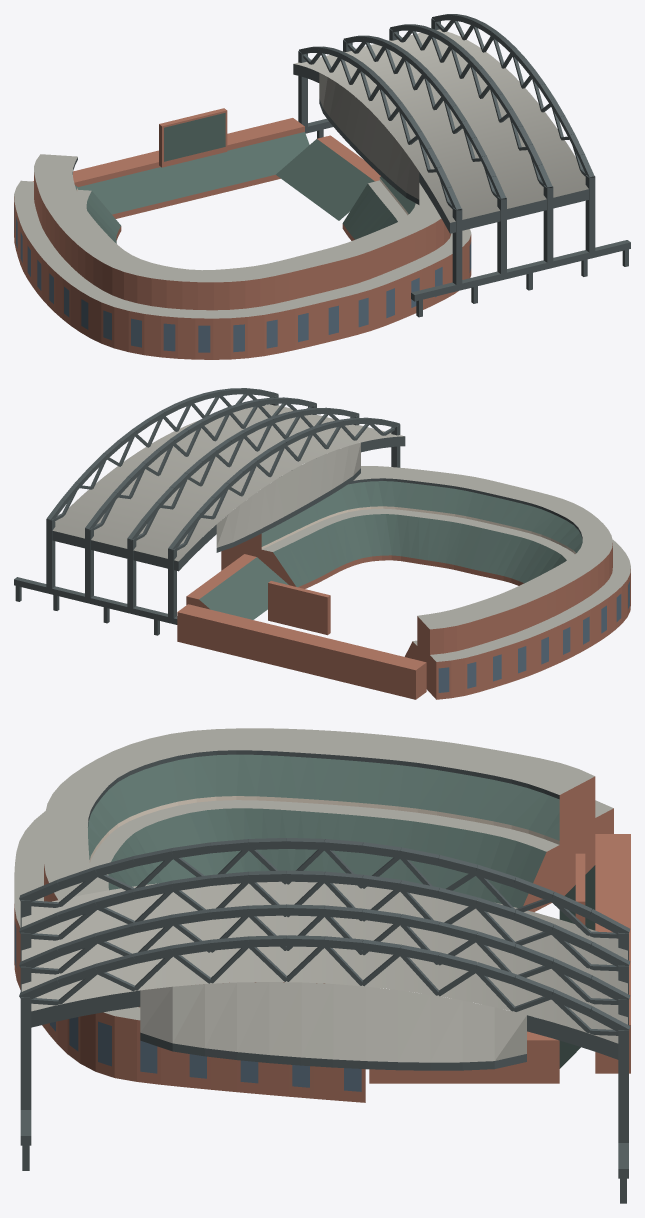
The model's file is sea-t-mobile-park.glb.
3 views of the same model, one above another, from view 1: azimuth 30°, elevation 25°; view 2: azimuth 150°, elevation 25°; view 3: azimuth 270°, elevation 25° (orthographic). The views are drawn at different scales.
Visible parts, largest first — view 1: T-Mobile Park; view 2: T-Mobile Park; view 3: T-Mobile Park.
Part boxes in pixels (x1,y1,x2,y2): T-Mobile Park: [14, 14, 630, 359]; T-Mobile Park: [14, 388, 630, 699]; T-Mobile Park: [14, 728, 630, 1203].
Size of the model in its own units: 306 by 83.8 by 208.
